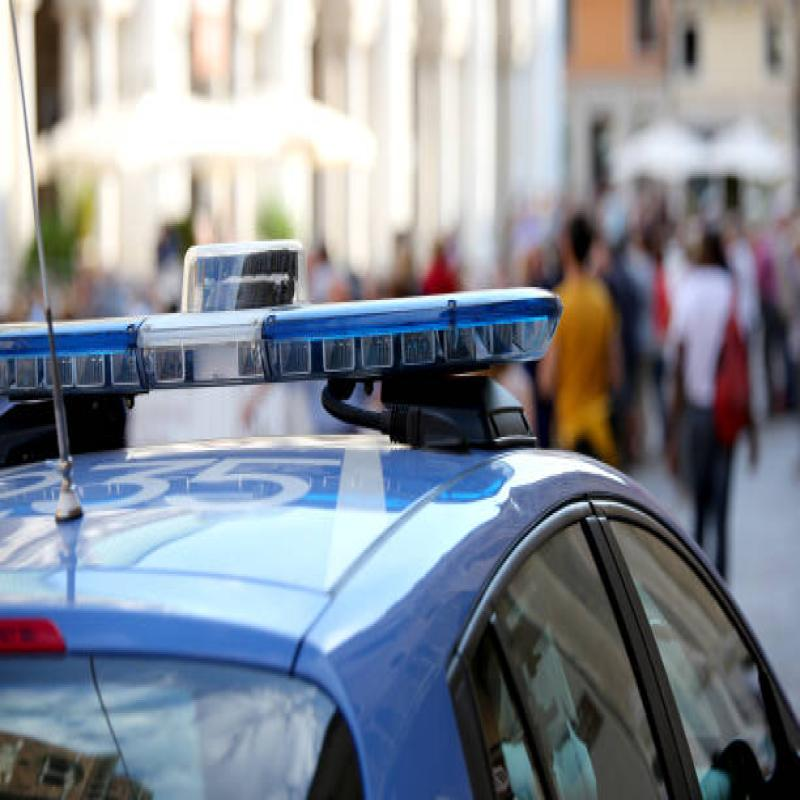AmbulanceSiren: (0, 242, 577, 429)
